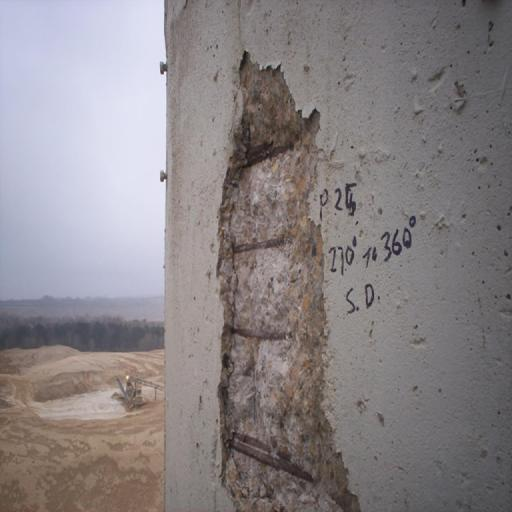exposed_rebar: (228, 434, 313, 482), (245, 144, 294, 167), (232, 238, 286, 254), (231, 327, 286, 340)
spalling: (218, 52, 359, 512)
